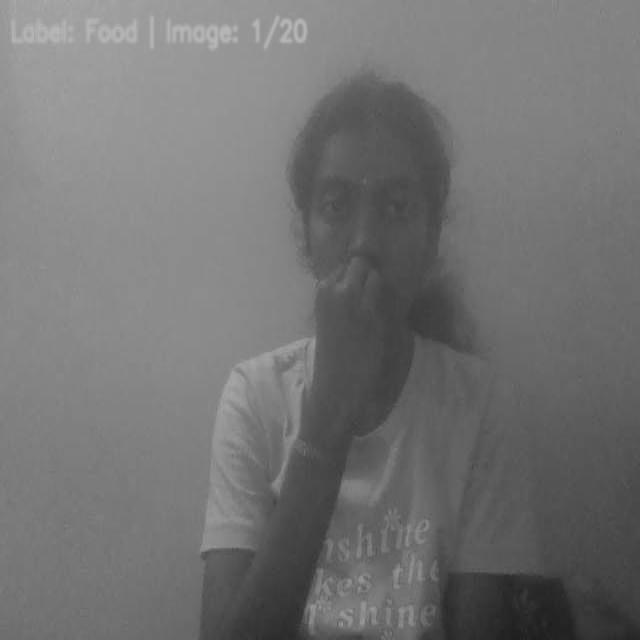Food: (299, 258, 400, 382)
